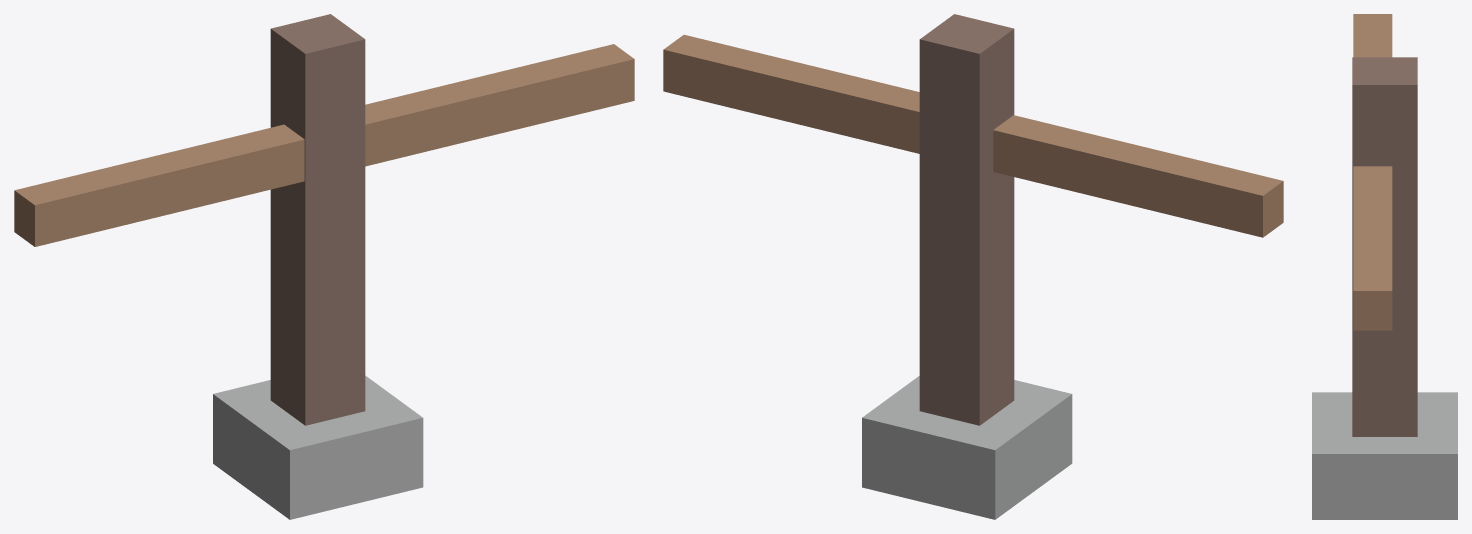
Rendered from training_dummy.glb.
The picture shows the model from 3 angles, left to right: view 1: azimuth 30°, elevation 25°; view 2: azimuth 150°, elevation 25°; view 3: azimuth 270°, elevation 25°; orthographic projection. The views are drawn at different scales.
Parts seen in each view (by area): view 1: wood_dark, wood, stone; view 2: wood_dark, wood, stone; view 3: wood_dark, stone, wood.
Part boxes in pixels (x1,y1,x2,y2): wood_dark: [270, 14, 365, 425]; wood: [14, 44, 634, 246]; stone: [213, 375, 423, 519]; wood_dark: [919, 14, 1014, 425]; wood: [663, 34, 1283, 237]; stone: [862, 376, 1072, 519]; wood_dark: [1352, 57, 1417, 436]; stone: [1312, 392, 1457, 519]; wood: [1353, 14, 1392, 330].
Size of the model in its own units: 2.7 by 1.9 by 0.6.
